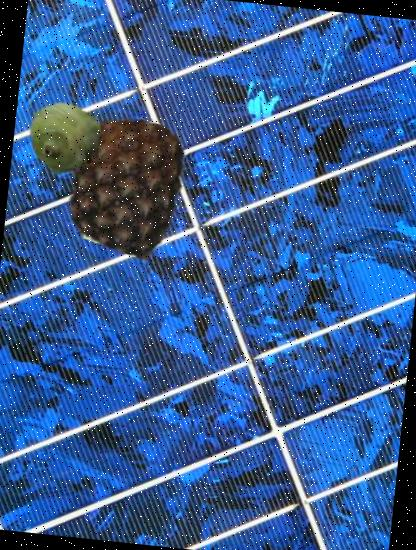Kohlrabi: (20, 95, 104, 179)
Pineapple: (53, 110, 199, 256)
